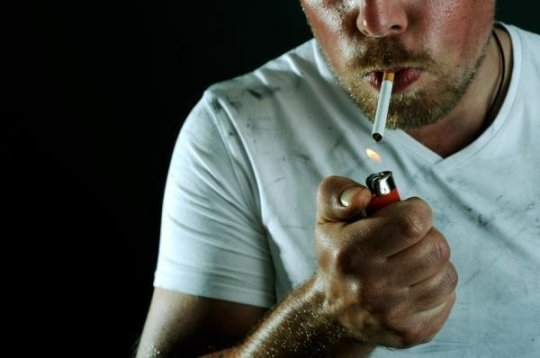cigarette: (368, 70, 396, 141)
